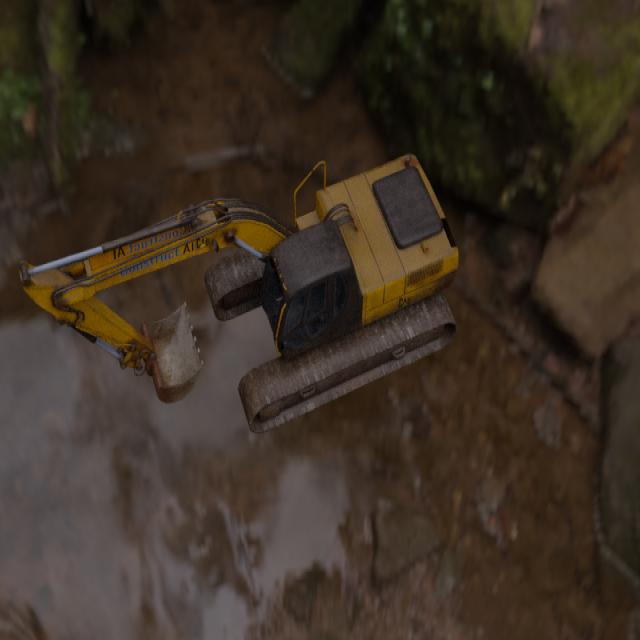excavator: (17, 152, 458, 433)
